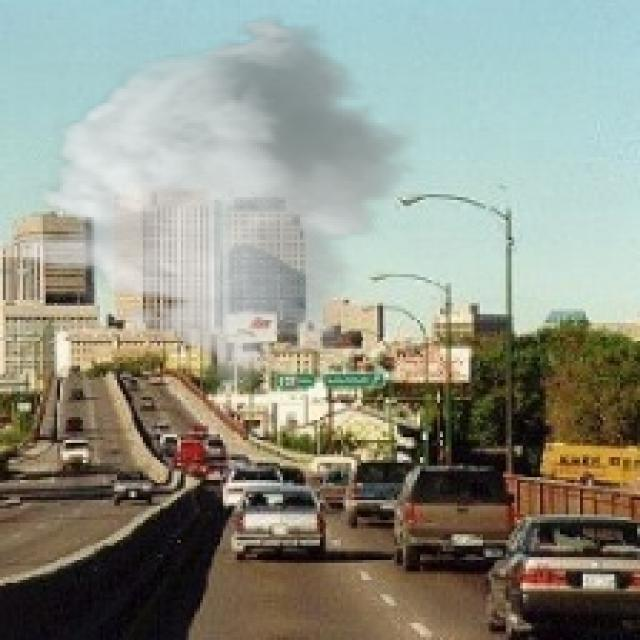smoke: (9, 14, 420, 394)
